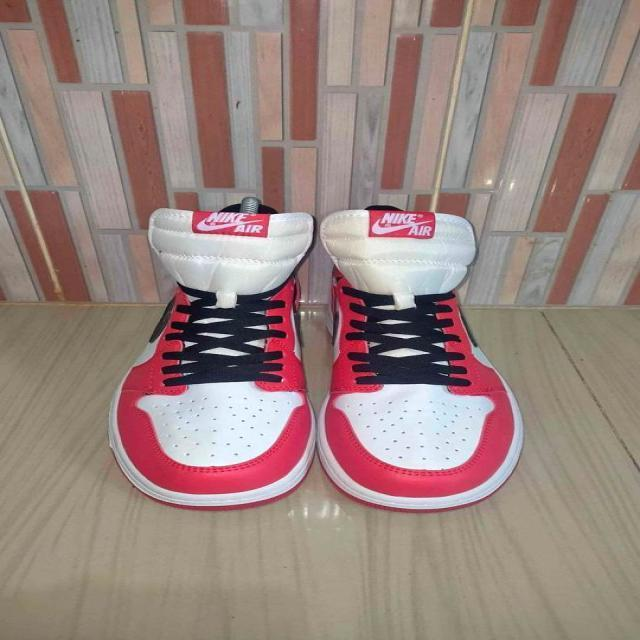nike fake jordan 1: (104, 192, 324, 516), (317, 204, 519, 514)
